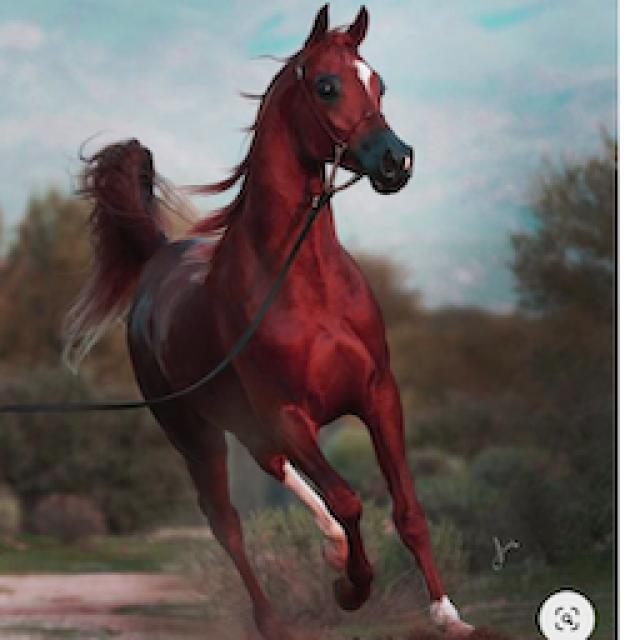Horse: (52, 0, 486, 638)
